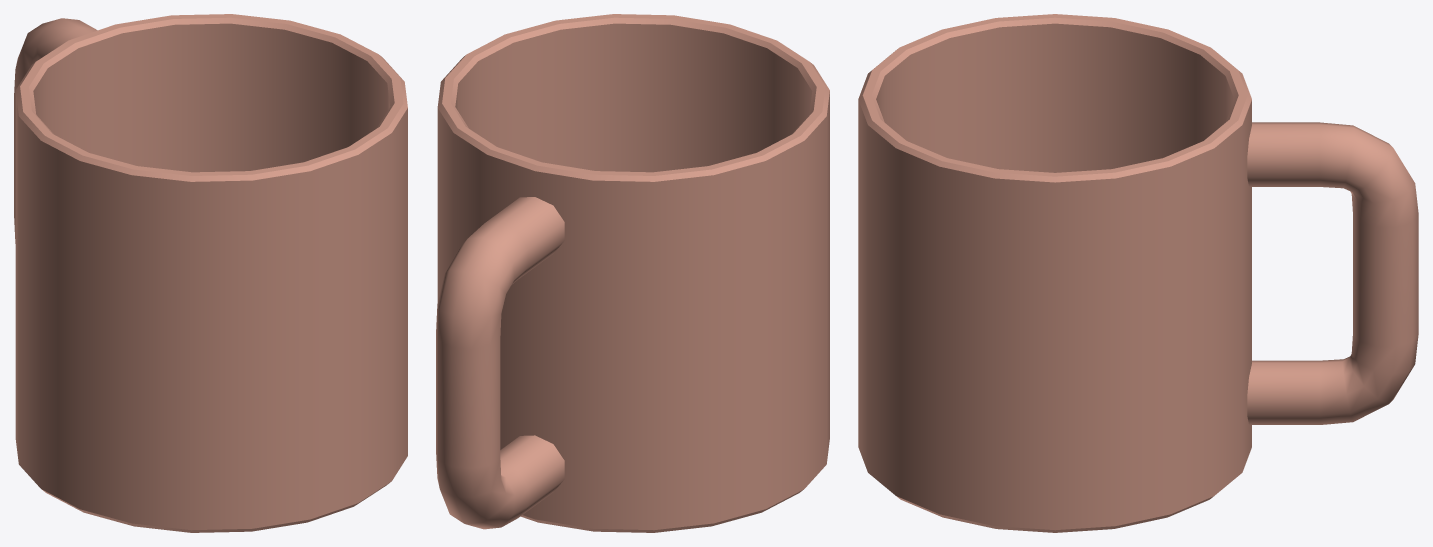
File: SM_Cup_Empty.fbx
The picture shows the model from 3 angles, left to right: view 1: azimuth 30°, elevation 25°; view 2: azimuth 150°, elevation 25°; view 3: azimuth 270°, elevation 25°; orthographic projection.
Parts seen in each view (by area): view 1: SM_Cup_Empty; view 2: SM_Cup_Empty; view 3: SM_Cup_Empty.
Part boxes in pixels (x1,y1,x2,y2): SM_Cup_Empty: (14, 14, 407, 532); SM_Cup_Empty: (436, 14, 829, 532); SM_Cup_Empty: (858, 14, 1418, 532).
Size of the model in its own units: 17.05 by 17.05 by 24.26.
